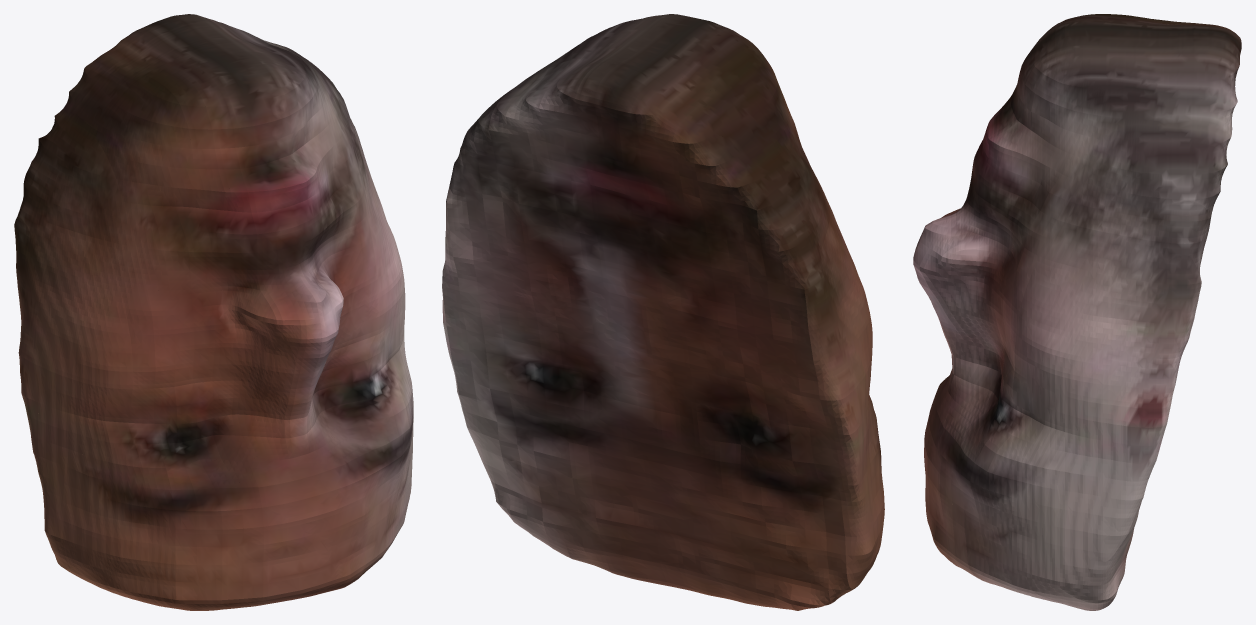
Rendered from generated.obj.
3 views of the same model, side by side, from view 1: azimuth 30°, elevation 25°; view 2: azimuth 150°, elevation 25°; view 3: azimuth 270°, elevation 25° (orthographic). The views are drawn at different scales.
Parts seen in each view (by area): view 1: foo; view 2: foo; view 3: foo.
Part boxes in pixels (x1=…): foo: x1=14, y1=14, x2=413, y2=610; foo: x1=442, y1=14, x2=884, y2=610; foo: x1=913, y1=14, x2=1241, y2=610.
Bounding box in the file's own units: 87.1 × 116 × 64.8.
